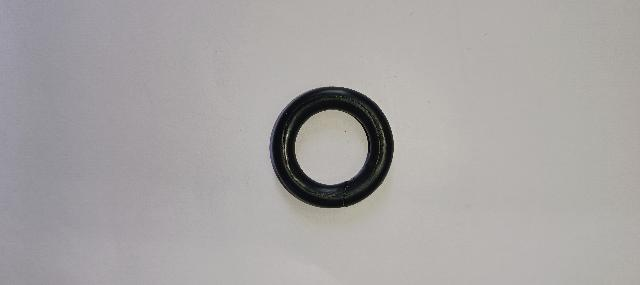crack: (338, 178, 354, 209)
scratch: (279, 92, 388, 201)
